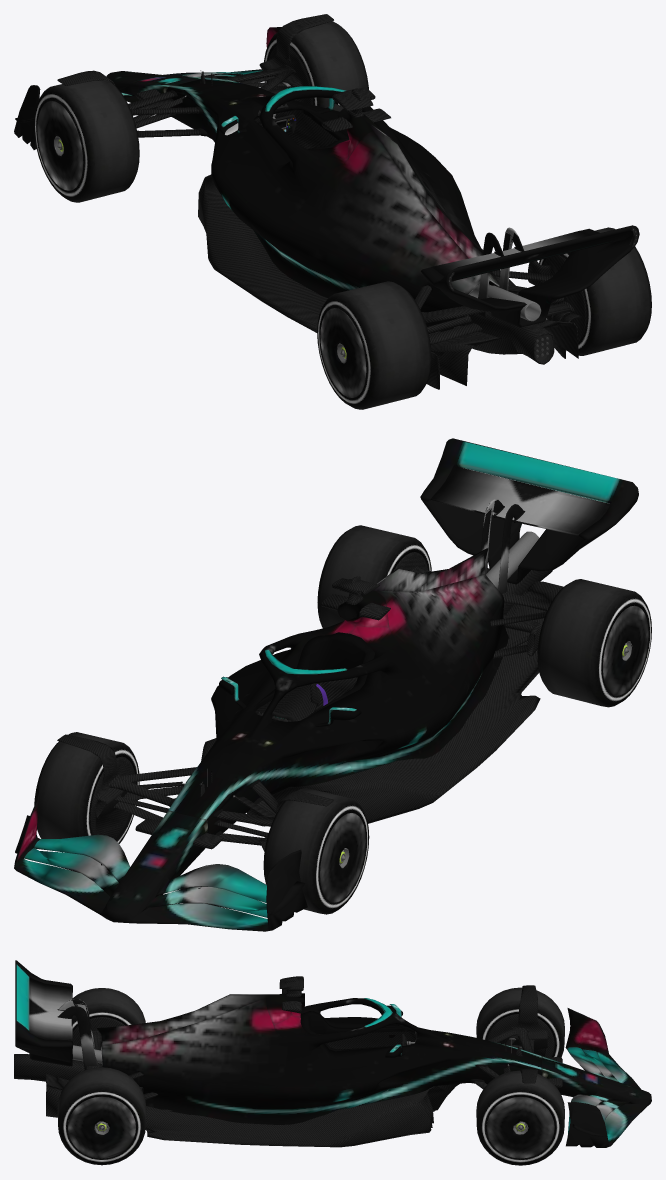
3 views of the same model, one above another, from view 1: azimuth 30°, elevation 25°; view 2: azimuth 150°, elevation 25°; view 3: azimuth 270°, elevation 25° (orthographic). The views are drawn at different scales.
Visible parts, largest first — view 1: Body_low_Body_Main_0, Floor_low.003_Carbon Fiber_0, RearTyre_Tyre_0, FrontTyre_Tyre_0, RearWing_low_Body_Wings_0, RearTyre.001_Tyre_0, FrontTyre.004_Tyre_0, FrontWing_low_Body_Wings_0, FronyWheelHub_Body_Wings_0, RearWheelHub_Body_Wings_0, FrontWheelHubInner_Carbon Fiber_0, RearWheelHubInner_Carbon Fiber_0 (+11 smaller); view 2: Body_low_Body_Main_0, FrontWing_low_Body_Wings_0, Floor_low.003_Carbon Fiber_0, RearWing_low_Body_Wings_0, RearTyre_Tyre_0, RearWingDRS_low_Body_Wings_0, FrontTyre.004_Tyre_0, FrontTyre_Tyre_0, RearTyre.001_Tyre_0, FrontWheelHubInner_Carbon Fiber_0, FronyWheelHub_Body_Wings_0, RearWheelHub_Body_Wings_0 (+11 smaller); view 3: Body_low_Body_Main_0, Floor_low.003_Carbon Fiber_0, FrontWing_low_Body_Wings_0, RearTyre.001_Tyre_0, FrontTyre.004_Tyre_0, FronyWheelHub_Body_Wings_0, RearWheelHub_Body_Wings_0, RearWing_low_Body_Wings_0, FrontTyre_Tyre_0, FrontWheelHubInner_Carbon Fiber_0, RearWingDRS_low_Body_Wings_0, RearTyre_Tyre_0 (+8 smaller).
Part boxes in pixels (x1,y1,x2,y2): Body_low_Body_Main_0: (166,77,499,331); Floor_low.003_Carbon Fiber_0: (198,174,578,385); RearTyre_Tyre_0: (317,281,431,409); FrontTyre_Tyre_0: (34,80,139,202); RearWing_low_Body_Wings_0: (421,225,639,327); RearTyre.001_Tyre_0: (539,227,651,355); FrontTyre.004_Tyre_0: (264,21,368,111); FrontWing_low_Body_Wings_0: (14,27,281,149); FronyWheelHub_Body_Wings_0: (37,100,83,190); RearWheelHub_Body_Wings_0: (320,308,366,397); FrontWheelHubInner_Carbon Fiber_0: (57,14,333,104); RearWheelHubInner_Carbon Fiber_0: (427,255,586,389); Body_low_Body_Main_0: (168,548,508,834); FrontWing_low_Body_Wings_0: (14,786,307,931); Floor_low.003_Carbon Fiber_0: (201,568,563,826); RearWing_low_Body_Wings_0: (420,438,638,584); RearTyre_Tyre_0: (537,579,651,707); RearWingDRS_low_Body_Wings_0: (430,466,610,535); FrontTyre.004_Tyre_0: (34,732,139,843); FrontTyre_Tyre_0: (263,788,369,914); RearTyre.001_Tyre_0: (317,525,431,628); FrontWheelHubInner_Carbon Fiber_0: (57,734,333,851); FronyWheelHub_Body_Wings_0: (320,812,365,902); RearWheelHub_Body_Wings_0: (603,605,648,695); Body_low_Body_Main_0: (97,993,541,1124); Floor_low.003_Carbon Fiber_0: (46,1059,459,1147); FrontWing_low_Body_Wings_0: (541,1008,651,1147); RearTyre.001_Tyre_0: (57,1067,146,1165); FrontTyre.004_Tyre_0: (476,1070,564,1165); FronyWheelHub_Body_Wings_0: (486,1096,554,1158); RearWheelHub_Body_Wings_0: (68,1096,135,1158); RearWing_low_Body_Wings_0: (15,960,72,1066); FrontTyre_Tyre_0: (476,987,564,1057); FrontWheelHubInner_Carbon Fiber_0: (487,985,554,1127); RearWingDRS_low_Body_Wings_0: (29,978,72,1040); RearTyre_Tyre_0: (72,988,145,1031).
Size of the model in its own units: 201 by 124 by 518.
Materials: 10 (6 with a texture image).
